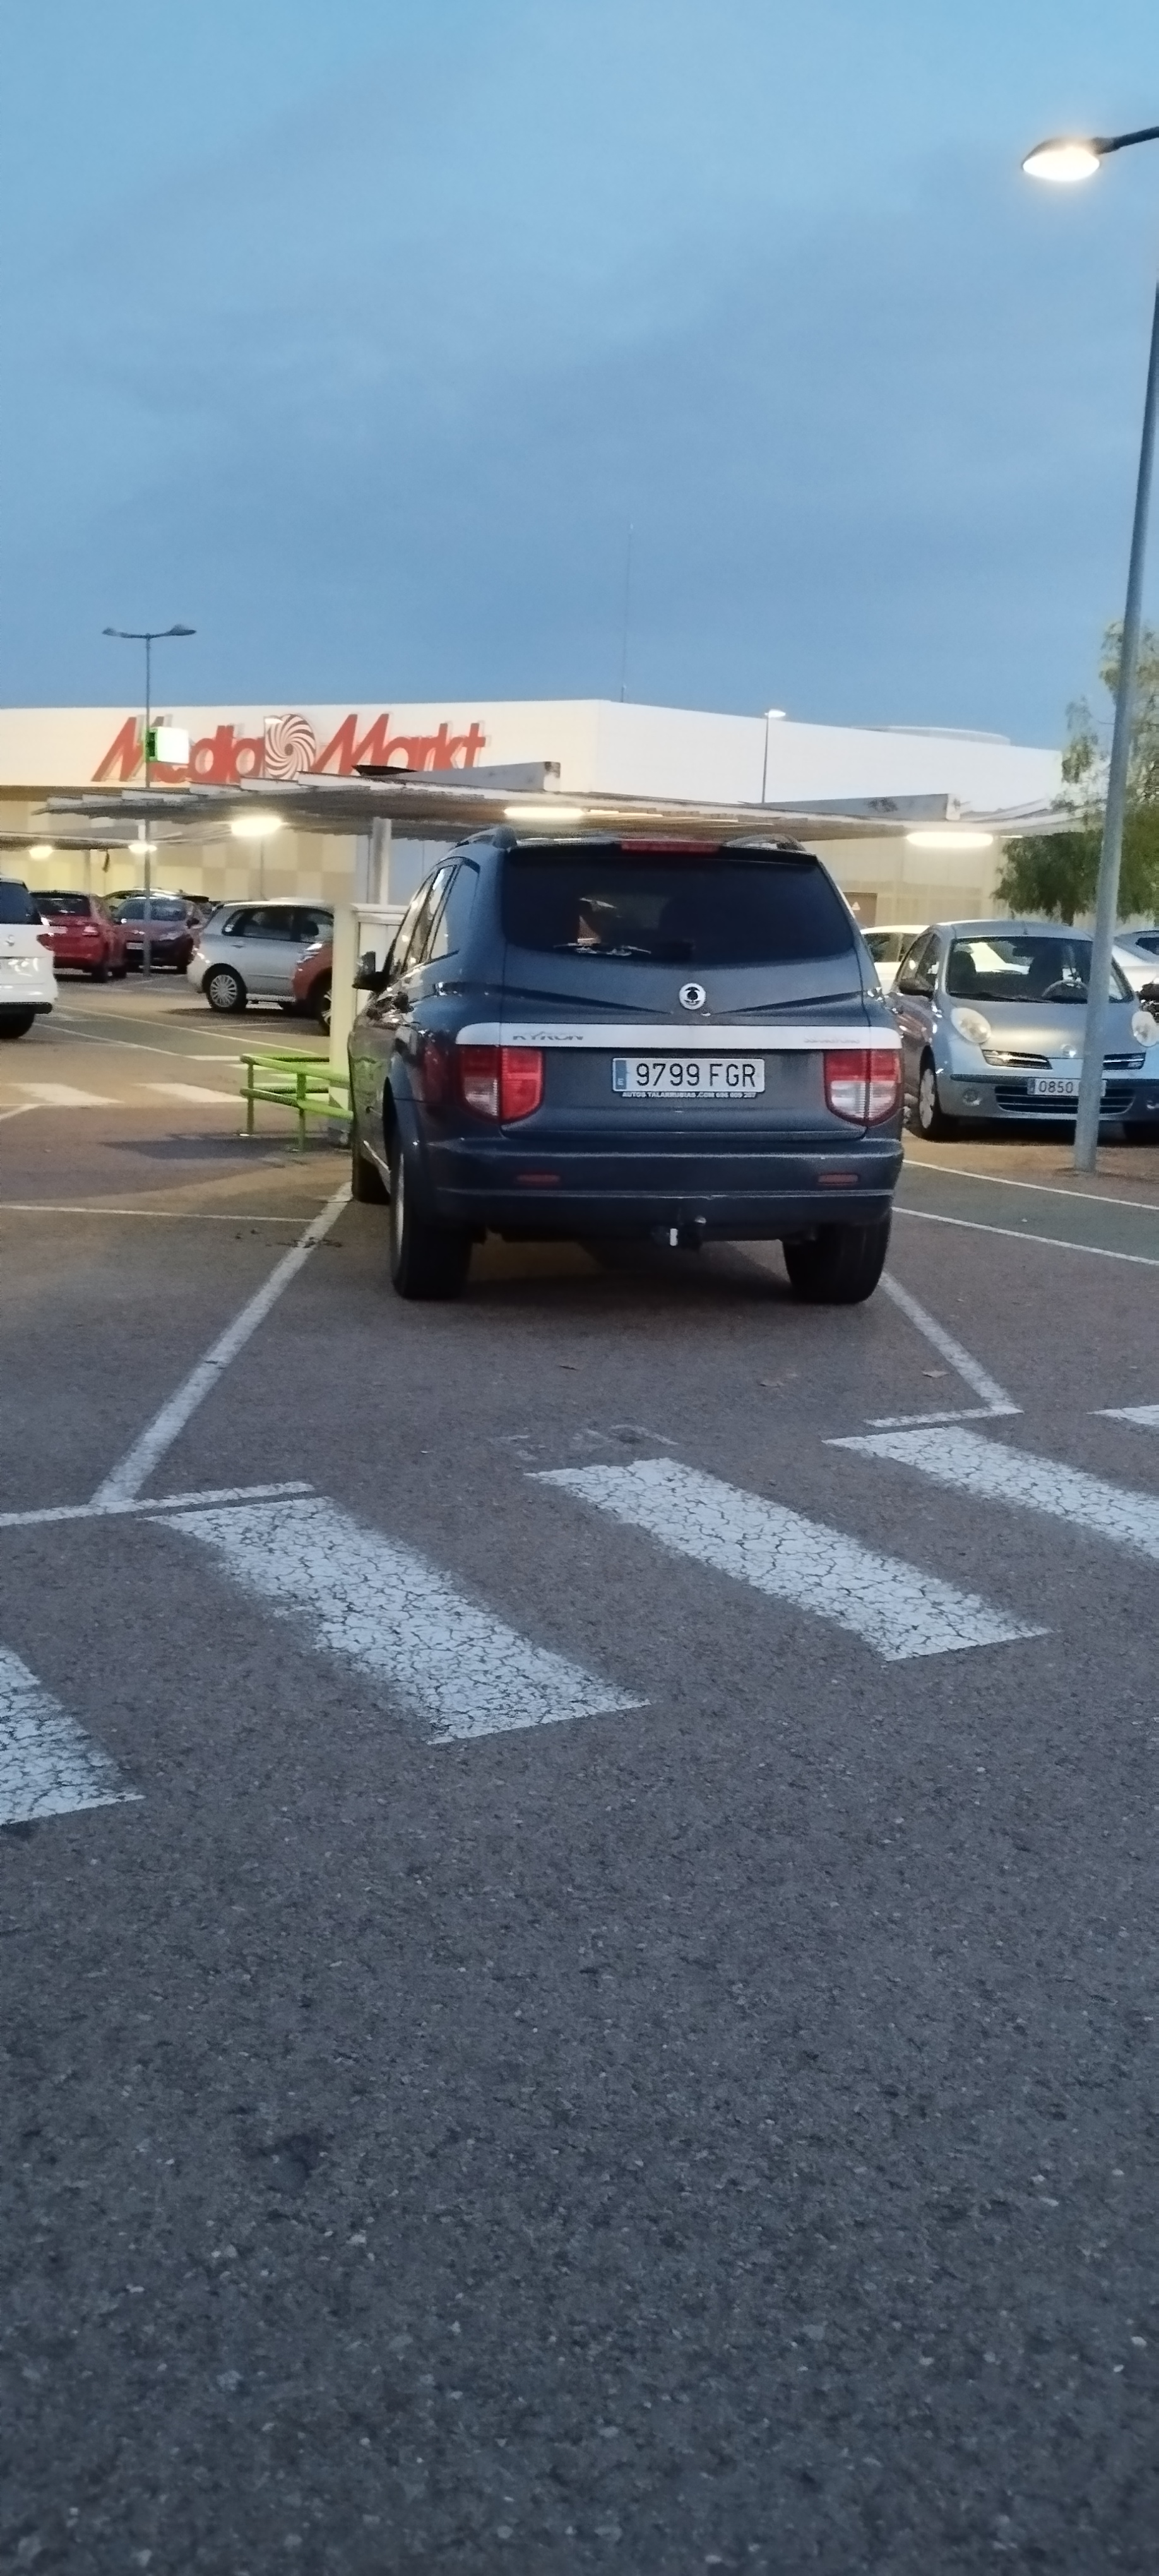Car: (350, 840, 900, 1299), (903, 919, 1158, 1149)
Plate: (613, 1058, 764, 1100), (1025, 1076, 1112, 1097)
